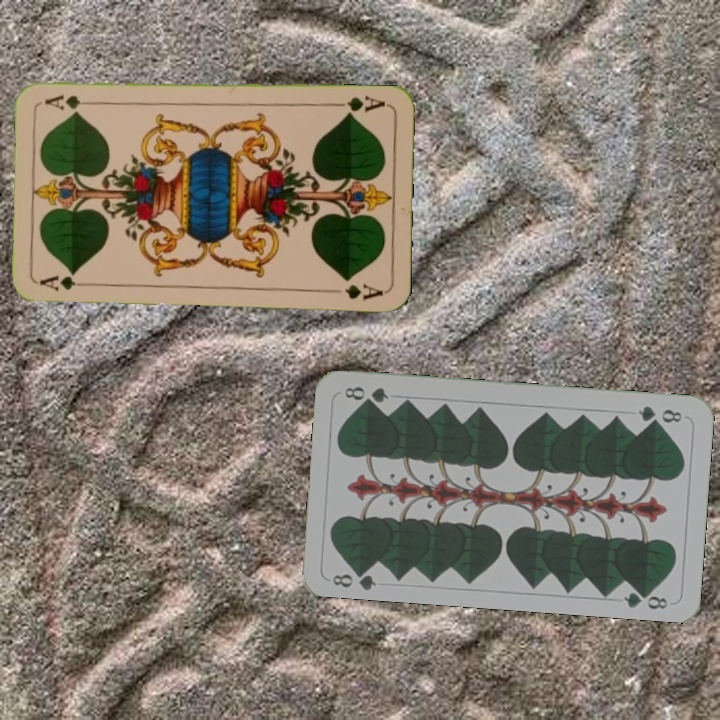G8: (329, 563, 379, 592), (634, 401, 685, 427)
GA: (329, 92, 388, 118), (36, 271, 95, 293)
